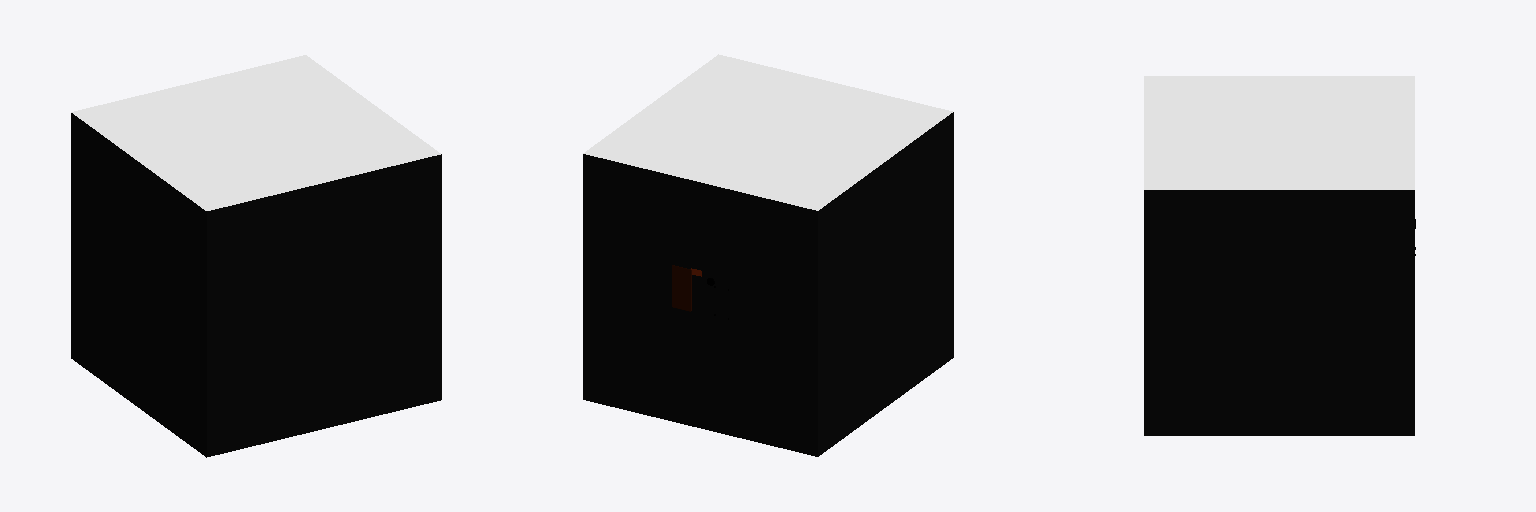
The model's file is glass-room.obj.
3 views of the same model, side by side, from view 1: azimuth 30°, elevation 25°; view 2: azimuth 150°, elevation 25°; view 3: azimuth 270°, elevation 25° (orthographic).
Parts seen in each view (by area): view 1: Plane.007, Plane.004_Plane.010, Plane.008_Plane.004; view 2: Plane.005, Plane.004_Plane.010, Plane.008_Plane.004, Cube.004; view 3: Plane.003, Plane.008_Plane.004.
Boxes of the visible parts, x1=… form: Plane.007: x1=207, y1=154, x2=441, y2=456; Plane.004_Plane.010: x1=71, y1=113, x2=206, y2=457; Plane.008_Plane.004: x1=71, y1=55, x2=440, y2=210; Plane.005: x1=583, y1=154, x2=817, y2=456; Plane.004_Plane.010: x1=818, y1=112, x2=953, y2=456; Plane.008_Plane.004: x1=583, y1=54, x2=952, y2=210; Cube.004: x1=672, y1=265, x2=691, y2=311; Plane.003: x1=1144, y1=190, x2=1414, y2=435; Plane.008_Plane.004: x1=1144, y1=76, x2=1414, y2=189.
Size of the model in its own units: 12 by 12 by 12.06.